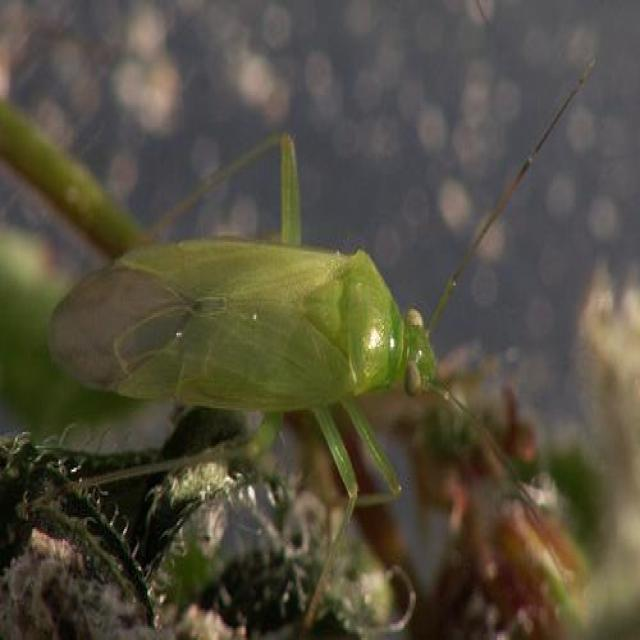Miridae-Adult-: (27, 104, 532, 568)
